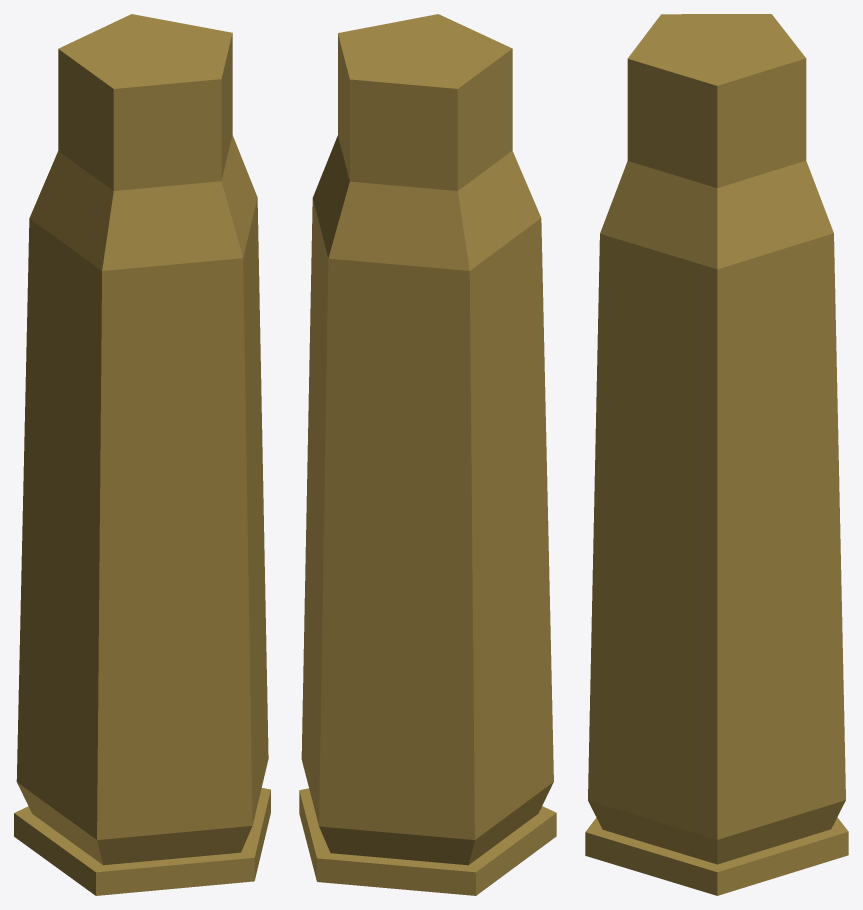
3 renders of one model, left to right at view 1: azimuth 30°, elevation 25°; view 2: azimuth 150°, elevation 25°; view 3: azimuth 270°, elevation 25°, orthographic.
Visible parts, largest first — view 1: Plane; view 2: Plane; view 3: Plane.
Part boxes in pixels (left/top/right/bottom): Plane: left=14, top=14, right=270, bottom=895; Plane: left=299, top=14, right=556, bottom=895; Plane: left=585, top=14, right=848, bottom=895.
Size of the model in its own units: 0.8053 by 2.8 by 0.8456.
Materials: 1 (1 with a texture image).
